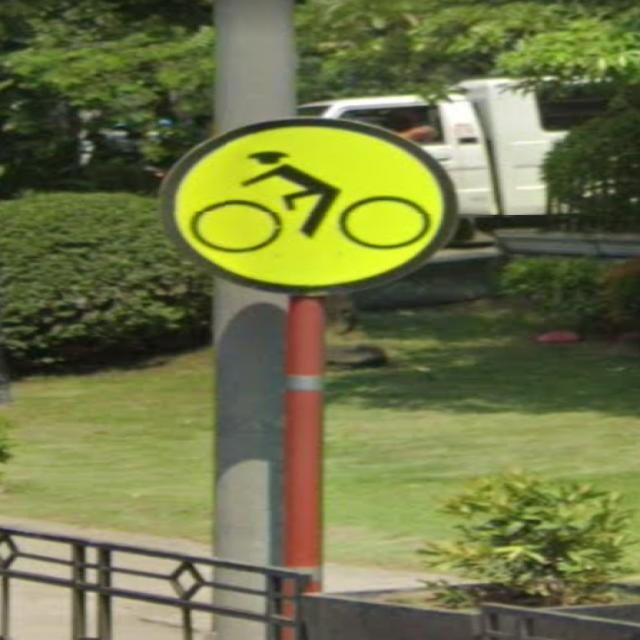bike lane: (159, 117, 455, 296)
